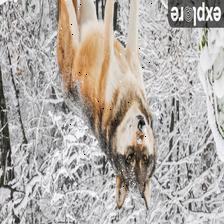WOLF: (59, 0, 158, 210)
